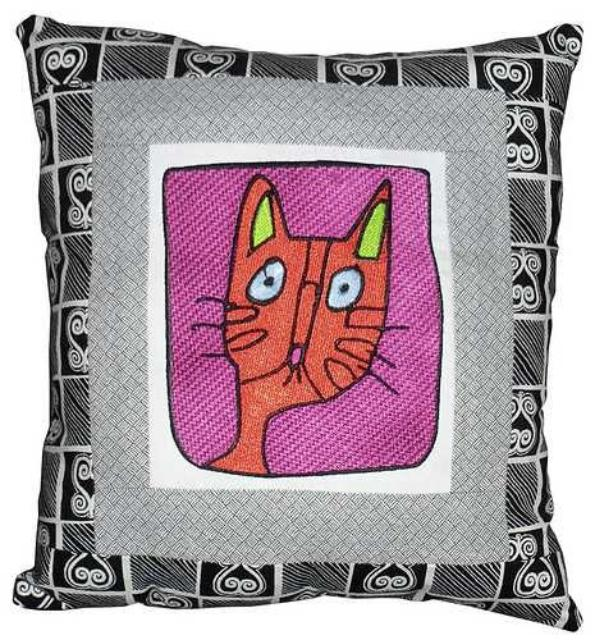pillow: (11, 15, 584, 630)
